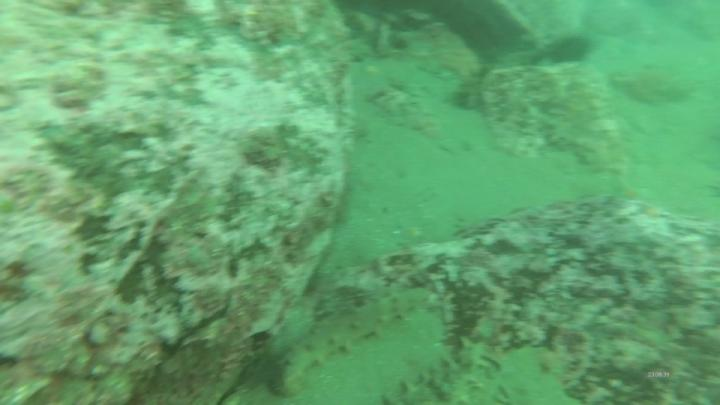holothurian: (267, 289, 434, 391), (443, 317, 506, 405)
